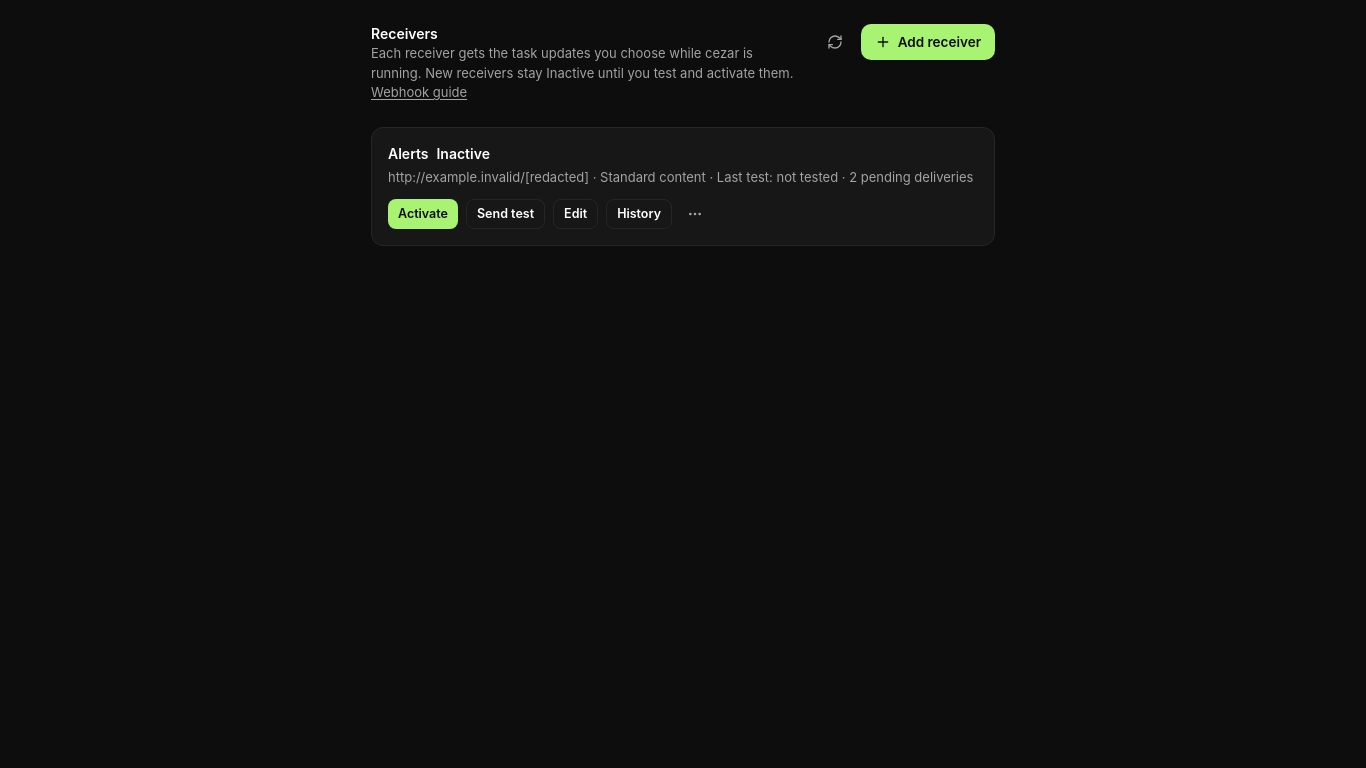
Test: independent webhook UI corrections › warns that old receiver verifier keys must be removed
Step 1. Press the mouse on the button named "More actions for" → [695, 214], box [680,199,710,229]
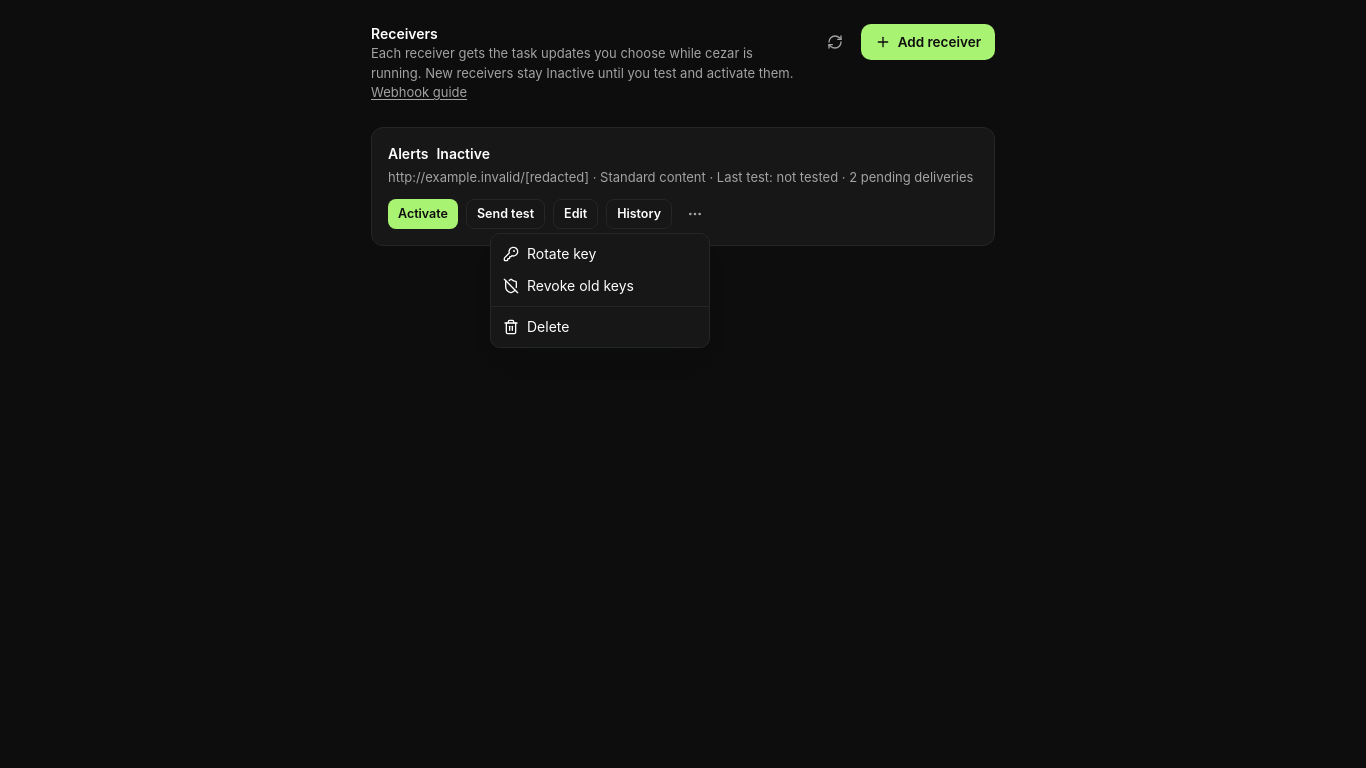
Step 2. Click the menu item "Revoke old keys" → [568, 286], box [503,277,634,294]
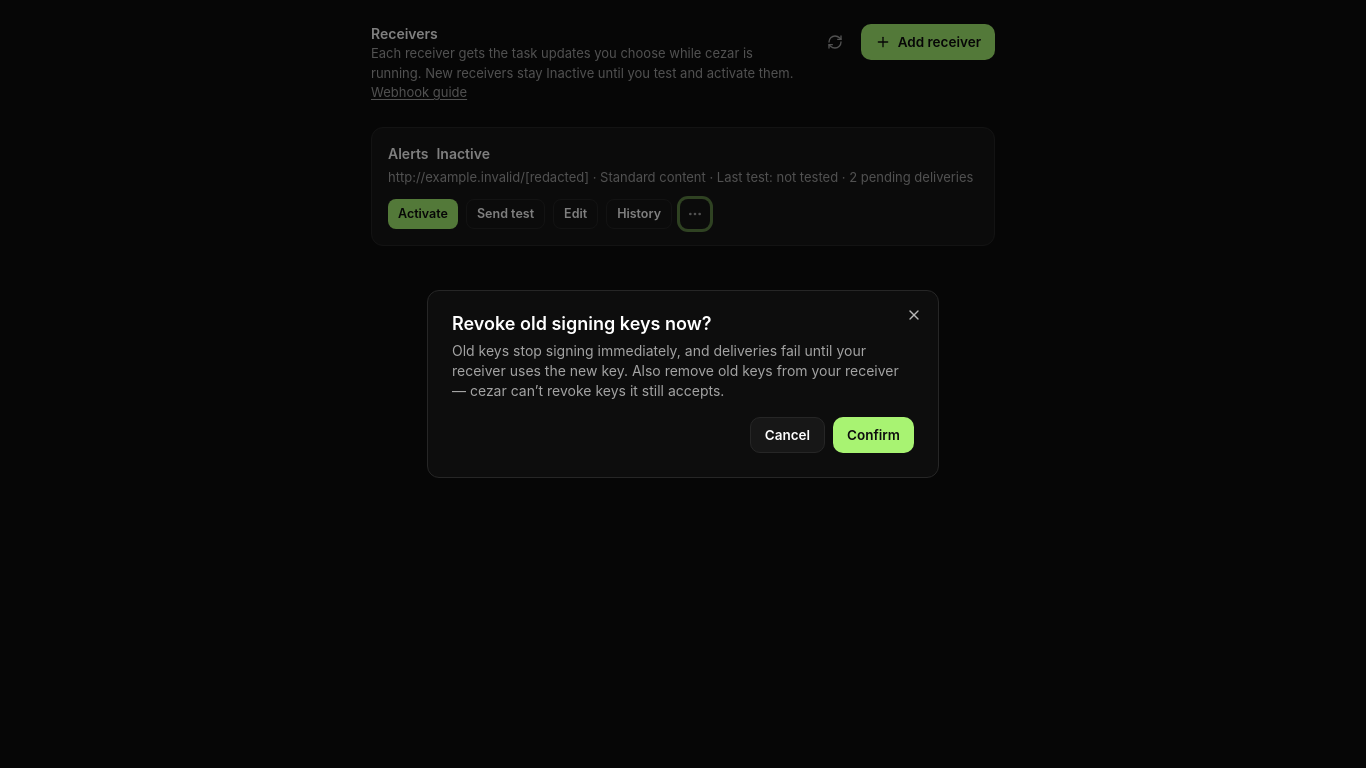
Now the text "remove old keys from your receiver" is shown, box [452,342,899,399]
